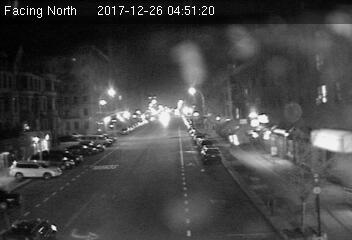car: (200, 145, 222, 164)
